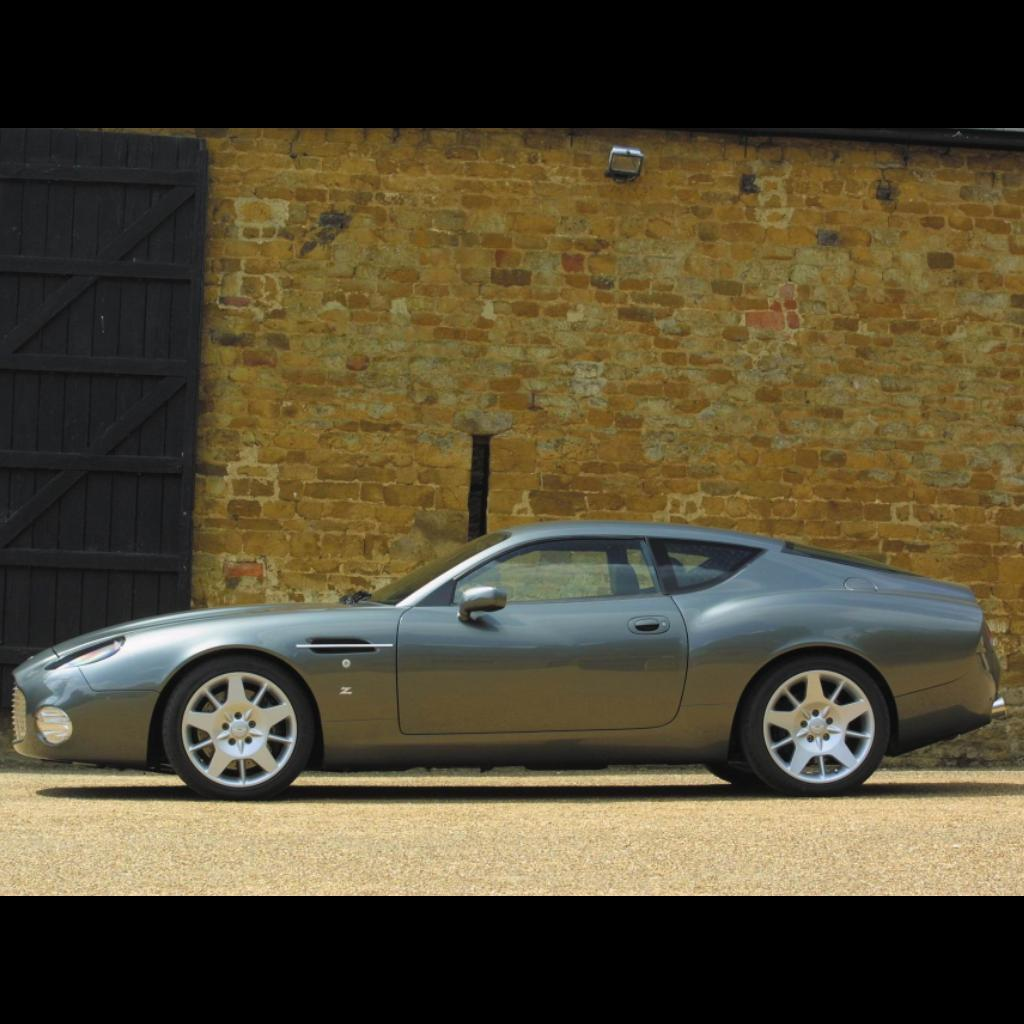aero: (297, 635, 395, 656)
bodysurface: (339, 588, 719, 758)
coupe: (12, 522, 1004, 800)
dlo: (414, 536, 768, 606)
fender: (686, 586, 968, 679), (118, 601, 374, 690)
foglamp: (33, 706, 74, 745)
grill: (9, 672, 29, 743)
headlamp: (44, 636, 126, 669)
mirror: (457, 583, 507, 623)
wheel: (180, 669, 297, 788), (763, 668, 875, 783)
